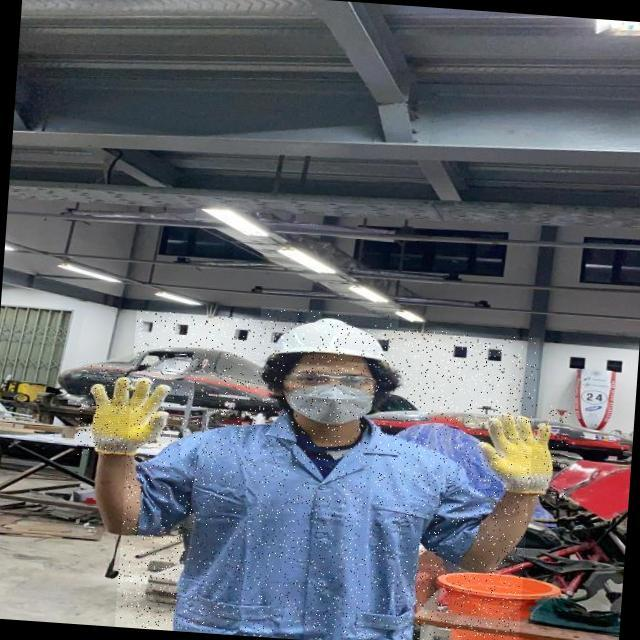Gloves: (466, 398, 555, 502), (83, 371, 179, 464)
Helmet: (257, 307, 399, 372)
Person: (73, 268, 561, 640)
no-vest: (138, 408, 487, 640)
